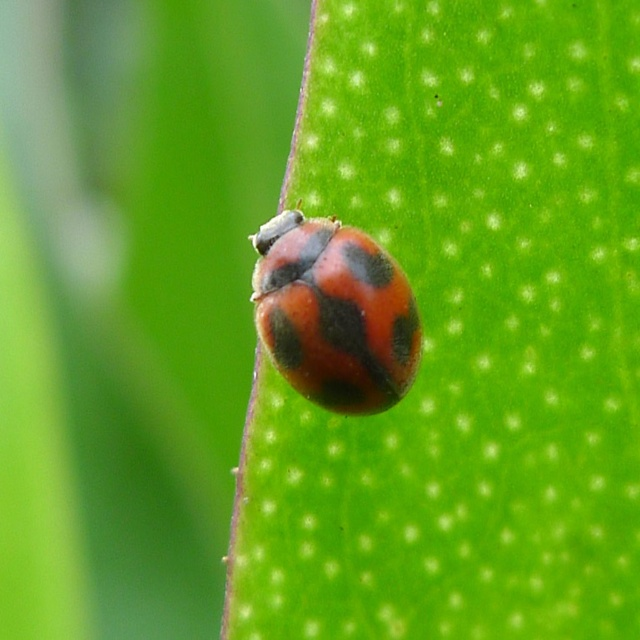Ladybug: (246, 197, 428, 417)
